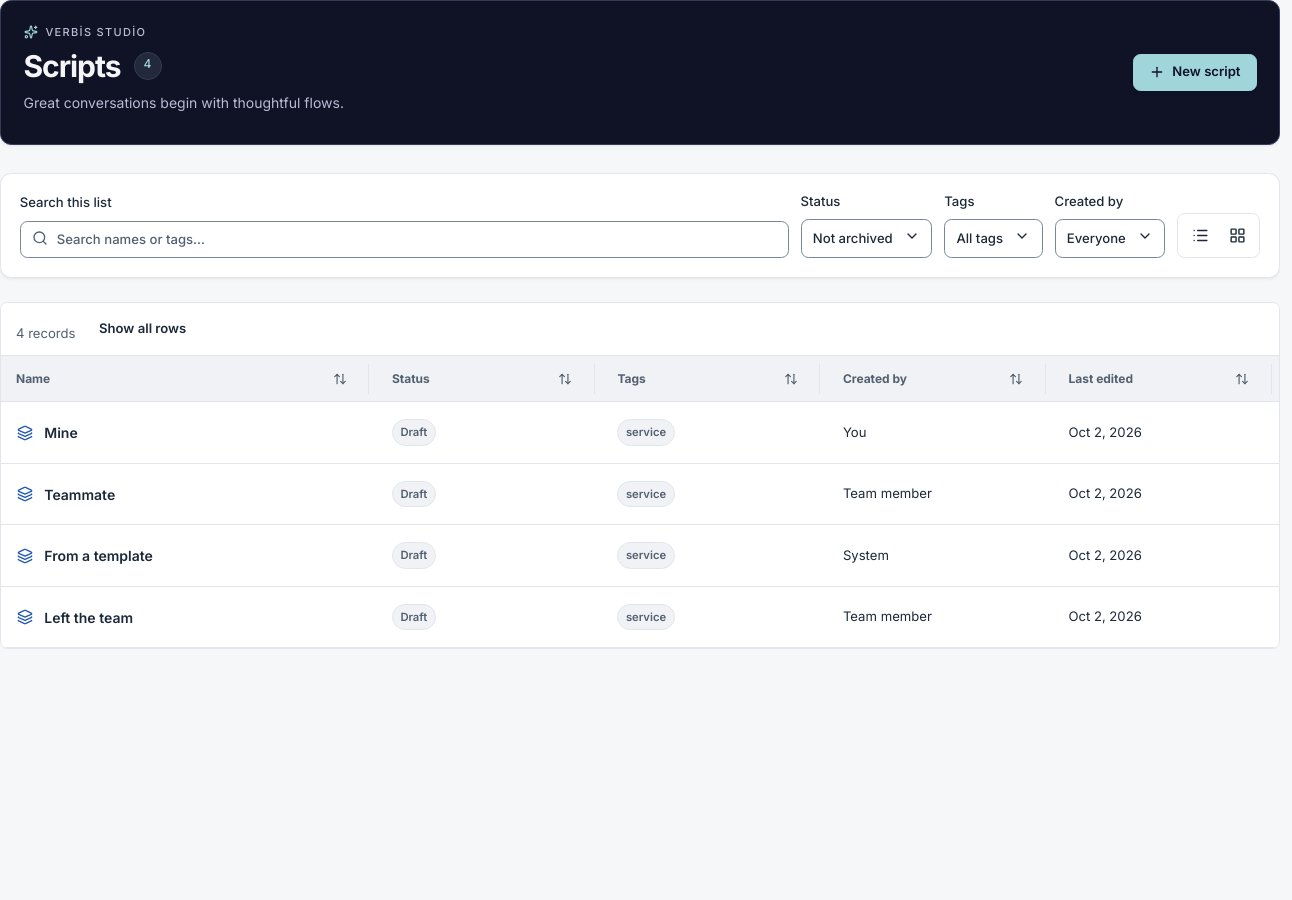
Scenario: names who created each row and keeps a single search box
Click the button "Show all rows": (143, 329) [87,314,199,344]
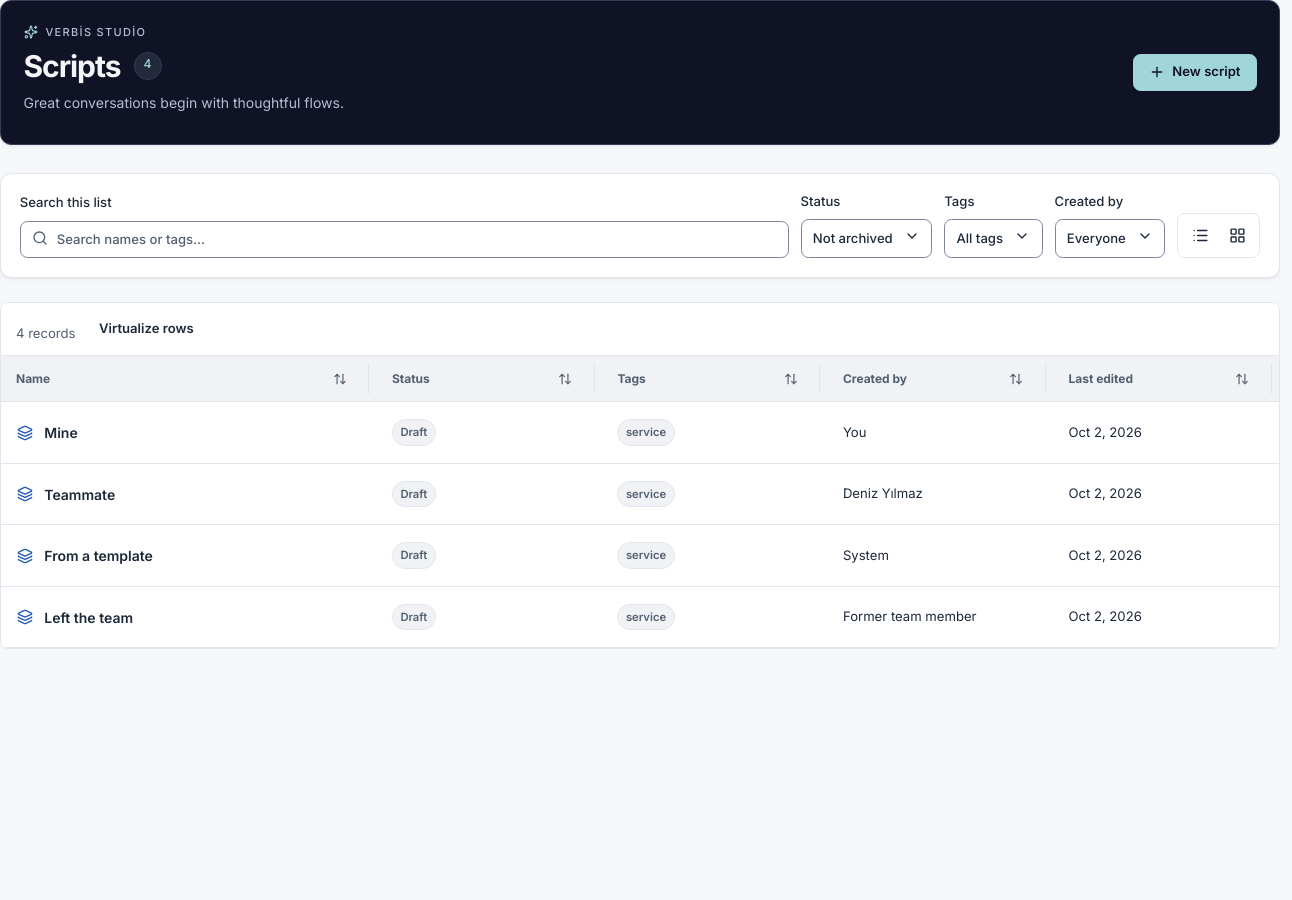
Expected: the column heading "Created by" is shown, [828,356,1053,402]
Result: the cell "Deniz Yılmaz" is shown at [828,464,1053,525]
Result: the cell "Former team member" is shown at [828,587,1053,648]
